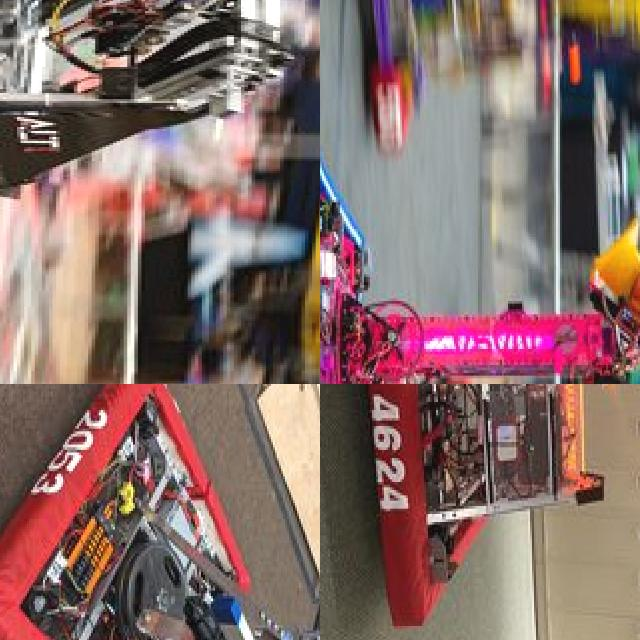FRC-Robots: (320, 103, 640, 384), (0, 384, 320, 640), (333, 384, 630, 640), (0, 0, 312, 236), (359, 0, 640, 171), (446, 332, 586, 384)
